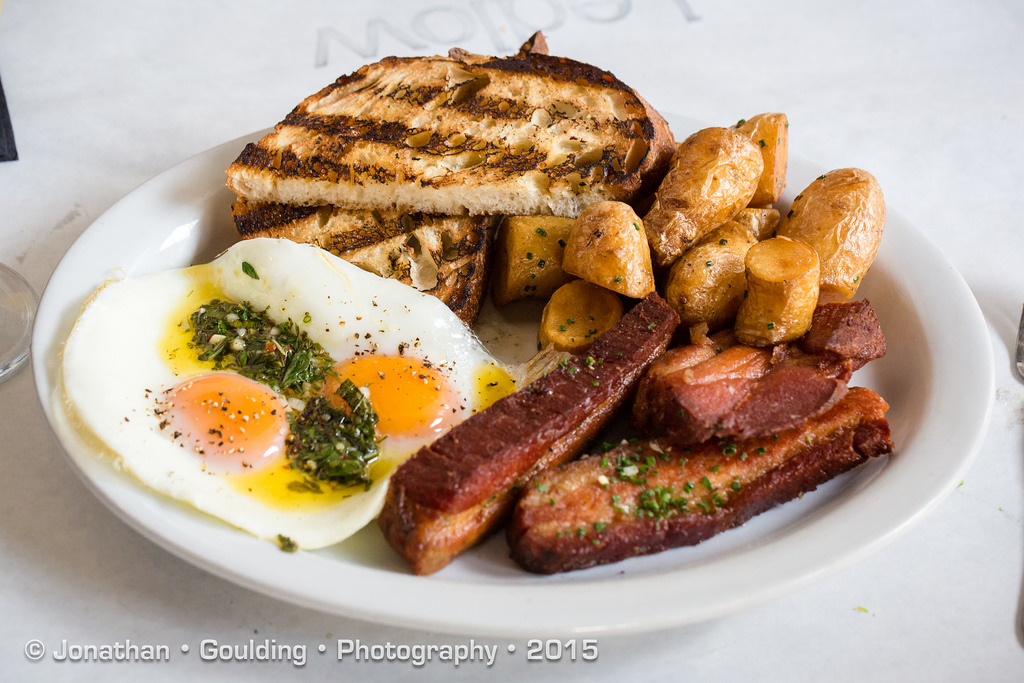boiled potatoes: (632, 149, 890, 332)
fried egg: (79, 252, 472, 494)
slice of bread: (227, 54, 660, 203), (265, 199, 504, 289)
